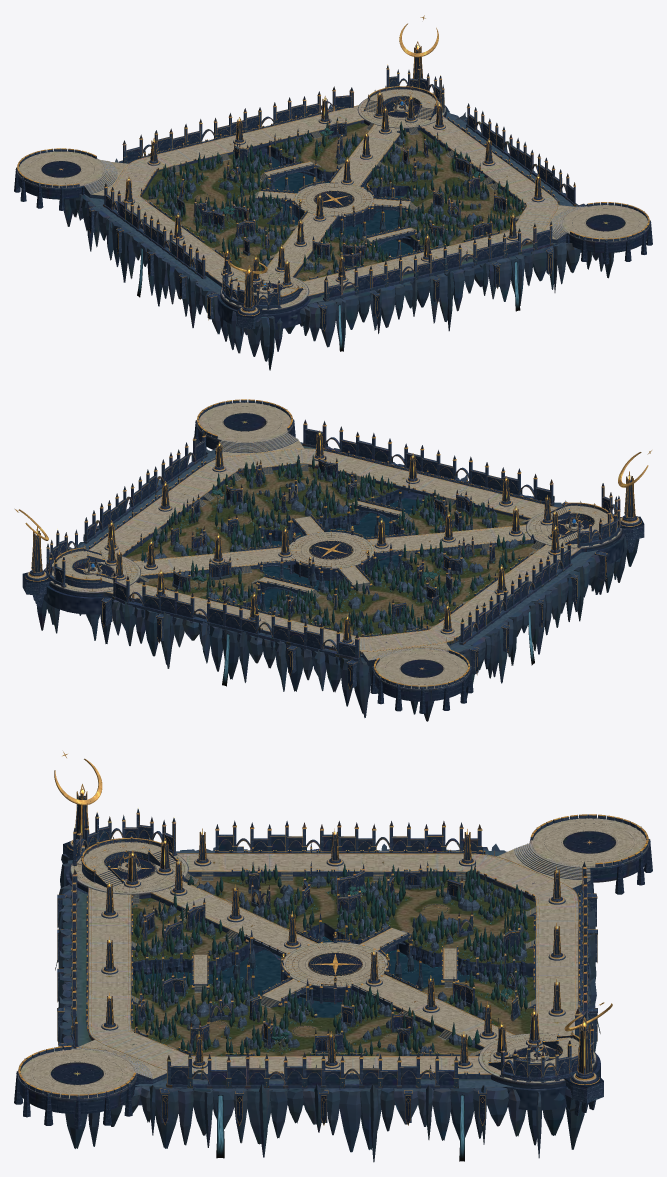
File: map-light.glb
The picture shows the model from 3 angles, top to bottom: view 1: azimuth 30°, elevation 25°; view 2: azimuth 150°, elevation 25°; view 3: azimuth 270°, elevation 25°; orthographic projection. The views are drawn at different scales.
Visible parts, largest first — view 1: FALAISES | strates de schiste suspendues, LOD | 09 | REMPARTS | enceinte bleu ardoise et or ancien, LOD | 09 | JUNGLE | cypres dans les ilots entre chemins, SOL | sentiers et ilots sans superposition 2, SOL | sentiers et ilots sans superposition 1, 09 | VOIE | TOP - trace reference, 09 | VOIE | BOT - trace reference, LOD | 09 | JUNGLE | ruines lineaires placees comme la refere, 09 | VOIE | MID - trace reference, ARENE | Sud-est | plateforme circulaire, ARENE | Nord-ouest | plateforme circulaire, 09 | EAU | axe nord-sud - aucune diagonale (+19 smaller); view 2: FALAISES | strates de schiste suspendues, LOD | 09 | REMPARTS | enceinte bleu ardoise et or ancien, LOD | 09 | JUNGLE | cypres dans les ilots entre chemins, 09 | VOIE | BOT - trace reference, SOL | sentiers et ilots sans superposition 1, SOL | sentiers et ilots sans superposition 2, 09 | VOIE | TOP - trace reference, LOD | 09 | JUNGLE | ruines lineaires placees comme la refere, 09 | VOIE | MID - trace reference, ARENE | Nord-ouest | plateforme circulaire, ARENE | Sud-est | plateforme circulaire, 09 | CENTRE | plateforme circulaire et rose des etoiles (+23 smaller); view 3: FALAISES | strates de schiste suspendues, LOD | 09 | JUNGLE | cypres dans les ilots entre chemins, 09 | VOIE | TOP - trace reference, LOD | 09 | REMPARTS | enceinte bleu ardoise et or ancien, SOL | sentiers et ilots sans superposition 1, SOL | sentiers et ilots sans superposition 2, 09 | VOIE | BOT - trace reference, LOD | 09 | JUNGLE | ruines lineaires placees comme la refere, 09 | VOIE | MID - trace reference, ARENE | Sud-est | plateforme circulaire, ARENE | Nord-ouest | plateforme circulaire, 09 | CENTRE | plateforme circulaire et rose des etoiles (+24 smaller).
Part boxes in pixels (bbox=[...]): FALAISES | strates de schiste suspendues: bbox=[63, 104, 614, 370]; LOD | 09 | REMPARTS | enceinte bleu ardoise et or ancien: bbox=[103, 86, 576, 301]; LOD | 09 | JUNGLE | cypres dans les ilots entre chemins: bbox=[148, 121, 523, 271]; SOL | sentiers et ilots sans superposition 2: bbox=[270, 111, 577, 250]; SOL | sentiers et ilots sans superposition 1: bbox=[84, 150, 391, 294]; 09 | VOIE | TOP - trace reference: bbox=[108, 105, 364, 284]; 09 | VOIE | BOT - trace reference: bbox=[303, 116, 558, 298]; LOD | 09 | JUNGLE | ruines lineaires placees comme la refere: bbox=[177, 117, 507, 268]; 09 | VOIE | MID - trace reference: bbox=[266, 124, 403, 276]; ARENE | Sud-est | plateforme circulaire: bbox=[561, 204, 650, 252]; ARENE | Nord-ouest | plateforme circulaire: bbox=[16, 151, 105, 199]; 09 | EAU | axe nord-sud - aucune diagonale: bbox=[255, 145, 419, 258]; FALAISES | strates de schiste suspendues: bbox=[36, 442, 639, 721]; LOD | 09 | REMPARTS | enceinte bleu ardoise et or ancien: bbox=[83, 419, 572, 660]; LOD | 09 | JUNGLE | cypres dans les ilots entre chemins: bbox=[141, 454, 525, 635]; 09 | VOIE | BOT - trace reference: bbox=[89, 448, 557, 556]; SOL | sentiers et ilots sans superposition 1: bbox=[269, 496, 597, 652]; SOL | sentiers et ilots sans superposition 2: bbox=[78, 450, 398, 607]; 09 | VOIE | TOP - trace reference: bbox=[106, 544, 581, 654]; LOD | 09 | JUNGLE | ruines lineaires placees comme la refere: bbox=[170, 454, 495, 619]; 09 | VOIE | MID - trace reference: bbox=[133, 524, 533, 576]; ARENE | Nord-ouest | plateforme circulaire: bbox=[373, 648, 470, 701]; ARENE | Sud-est | plateforme circulaire: bbox=[196, 402, 293, 449]; 09 | CENTRE | plateforme circulaire et rose des etoiles: bbox=[287, 525, 374, 580]; FALAISES | strates de schiste suspendues: bbox=[58, 844, 596, 1162]; LOD | 09 | JUNGLE | cypres dans les ilots entre chemins: bbox=[134, 863, 527, 1055]; 09 | VOIE | TOP - trace reference: bbox=[177, 853, 579, 1036]; LOD | 09 | REMPARTS | enceinte bleu ardoise et or ancien: bbox=[71, 820, 587, 1088]; SOL | sentiers et ilots sans superposition 1: bbox=[131, 850, 535, 964]; SOL | sentiers et ilots sans superposition 2: bbox=[131, 977, 535, 1088]; 09 | VOIE | BOT - trace reference: bbox=[87, 887, 491, 1077]; LOD | 09 | JUNGLE | ruines lineaires placees comme la refere: bbox=[138, 864, 520, 1054]; 09 | VOIE | MID - trace reference: bbox=[150, 880, 514, 1047]; ARENE | Sud-est | plateforme circulaire: bbox=[17, 1048, 137, 1113]; ARENE | Nord-ouest | plateforme circulaire: bbox=[529, 817, 649, 882]; 09 | CENTRE | plateforme circulaire et rose des etoiles: bbox=[280, 931, 390, 1002].
Size of the model in its own units: 184 by 51.13 by 174.
Materials: 681 (681 with a texture image).
